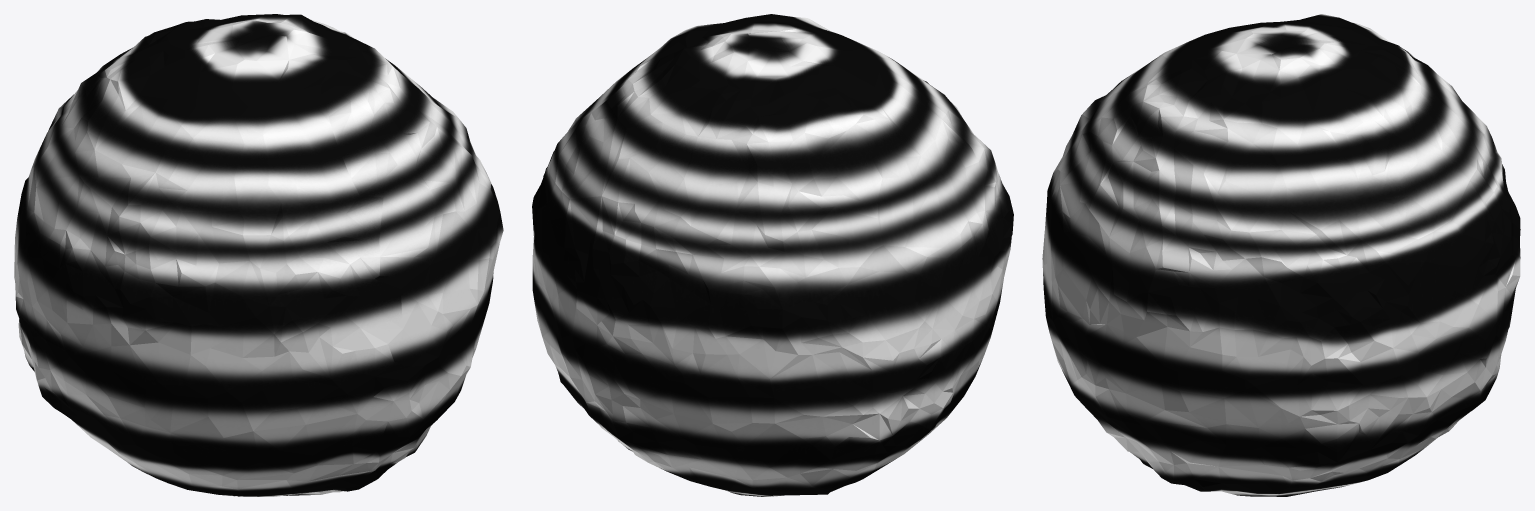
The model's file is SM_Env_Planet_06.fbx.
3 renders of one model, left to right at view 1: azimuth 30°, elevation 25°; view 2: azimuth 150°, elevation 25°; view 3: azimuth 270°, elevation 25°, orthographic.
Parts seen in each view (by area): view 1: SM_Env_Planet_06_LOD0; view 2: SM_Env_Planet_06_LOD0; view 3: SM_Env_Planet_06_LOD0.
Part boxes in pixels (x1,y1,x2,y2): SM_Env_Planet_06_LOD0: (14,14,503,496); SM_Env_Planet_06_LOD0: (532,14,1013,496); SM_Env_Planet_06_LOD0: (1042,14,1520,496).
Bounding box in the file's own units: 47373 × 47281 × 47356.
Materials: 1 (1 with a texture image).
